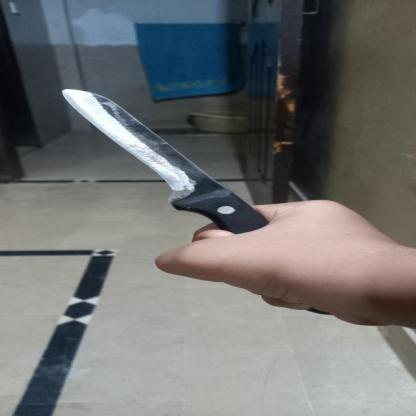Knife: (58, 85, 288, 253)
